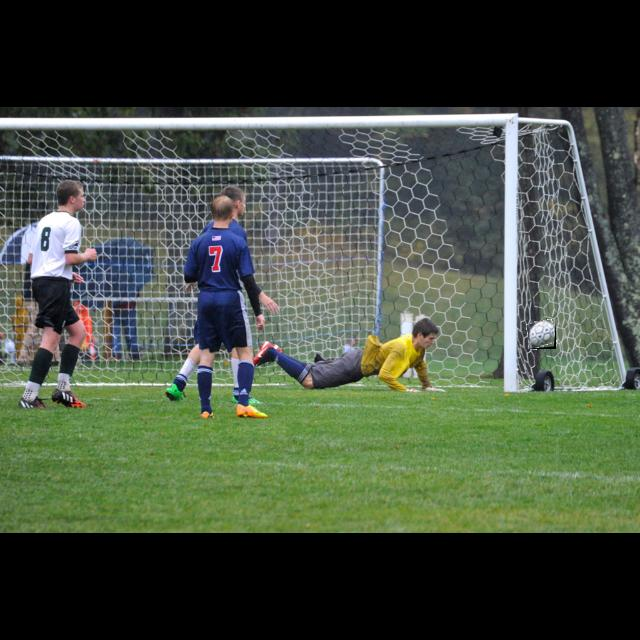Football: (528, 321, 556, 349)
